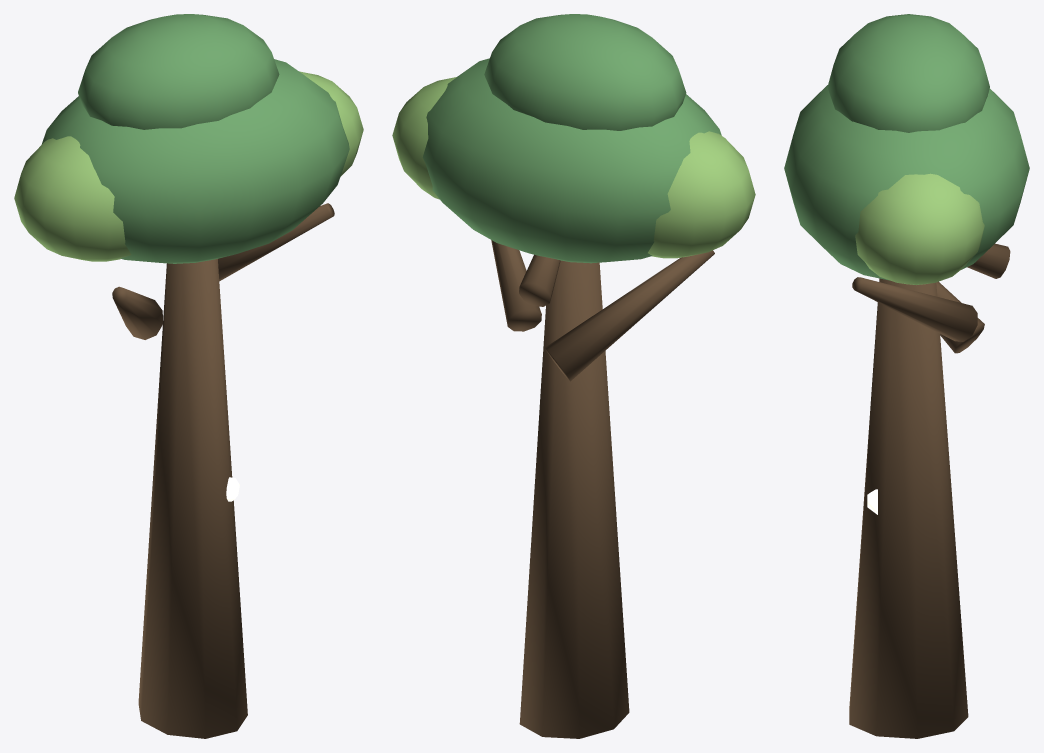
Rendered from xy_item_memory_tree.glb.
The picture shows the model from 3 angles, left to right: view 1: azimuth 30°, elevation 25°; view 2: azimuth 150°, elevation 25°; view 3: azimuth 270°, elevation 25°; orthographic projection.
Visible parts, largest first — view 1: Trunk, CanopyMain, CanopyTop, CanopyLeft, BranchA, BranchB, CanopyRight; view 2: Trunk, CanopyMain, CanopyTop, CanopyLeft, BranchA, CanopyRight, BranchB, BranchC; view 3: Trunk, CanopyMain, CanopyTop, CanopyRight, BranchB, BranchC, BranchA.
Boxes of the visible parts, left/top/right/bottom form: Trunk: left=138, top=259, right=247, bottom=738; CanopyMain: left=41, top=59, right=349, bottom=263; CanopyTop: left=78, top=14, right=279, bottom=129; CanopyLeft: left=14, top=136, right=131, bottom=261; BranchA: left=112, top=286, right=162, bottom=339; BranchB: left=218, top=203, right=334, bottom=281; CanopyRight: left=299, top=71, right=363, bottom=176; Trunk: left=519, top=260, right=629, bottom=738; CanopyMain: left=422, top=58, right=721, bottom=263; CanopyTop: left=484, top=14, right=686, bottom=130; CanopyLeft: left=648, top=131, right=755, bottom=258; BranchA: left=545, top=250, right=714, bottom=381; CanopyRight: left=392, top=77, right=456, bottom=199; BranchB: left=491, top=240, right=541, bottom=331; BranchC: left=519, top=254, right=560, bottom=306; Trunk: left=849, top=278, right=968, bottom=738; CanopyMain: left=784, top=85, right=1029, bottom=280; CanopyTop: left=827, top=14, right=989, bottom=132; CanopyRight: left=855, top=173, right=984, bottom=284; BranchB: left=852, top=277, right=977, bottom=341; BranchC: left=967, top=243, right=1010, bottom=278; BranchA: left=936, top=281, right=984, bottom=353.
Size of the model in its own units: 2.14 by 4.17 by 1.36.
